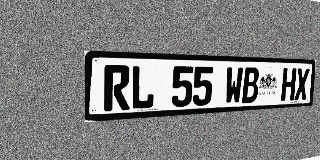5: (171, 66, 193, 107), (193, 66, 213, 106)
B: (242, 67, 260, 103)
H: (281, 68, 297, 101)
L: (130, 65, 155, 110)
R: (104, 65, 130, 111)
W: (224, 67, 243, 104)
X: (294, 68, 309, 100)
